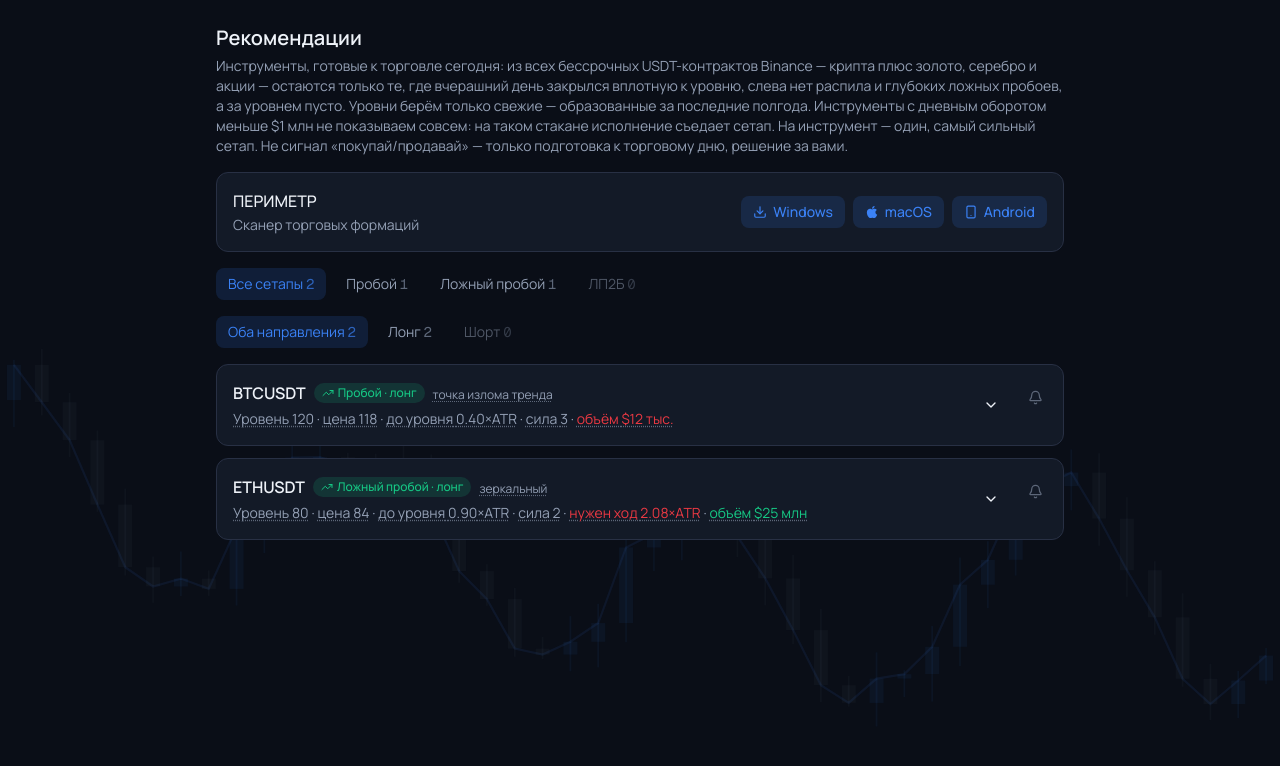
it: ATR panel › shows the ATR but no move budget for a breakout setup
expect the text "Пробой · лонг" is shown: met, box x1=314 y1=383 x2=425 y2=403
Click the text "BTCUSDT". click: (269, 393)
box: x1=233 y1=381 x2=306 y2=405
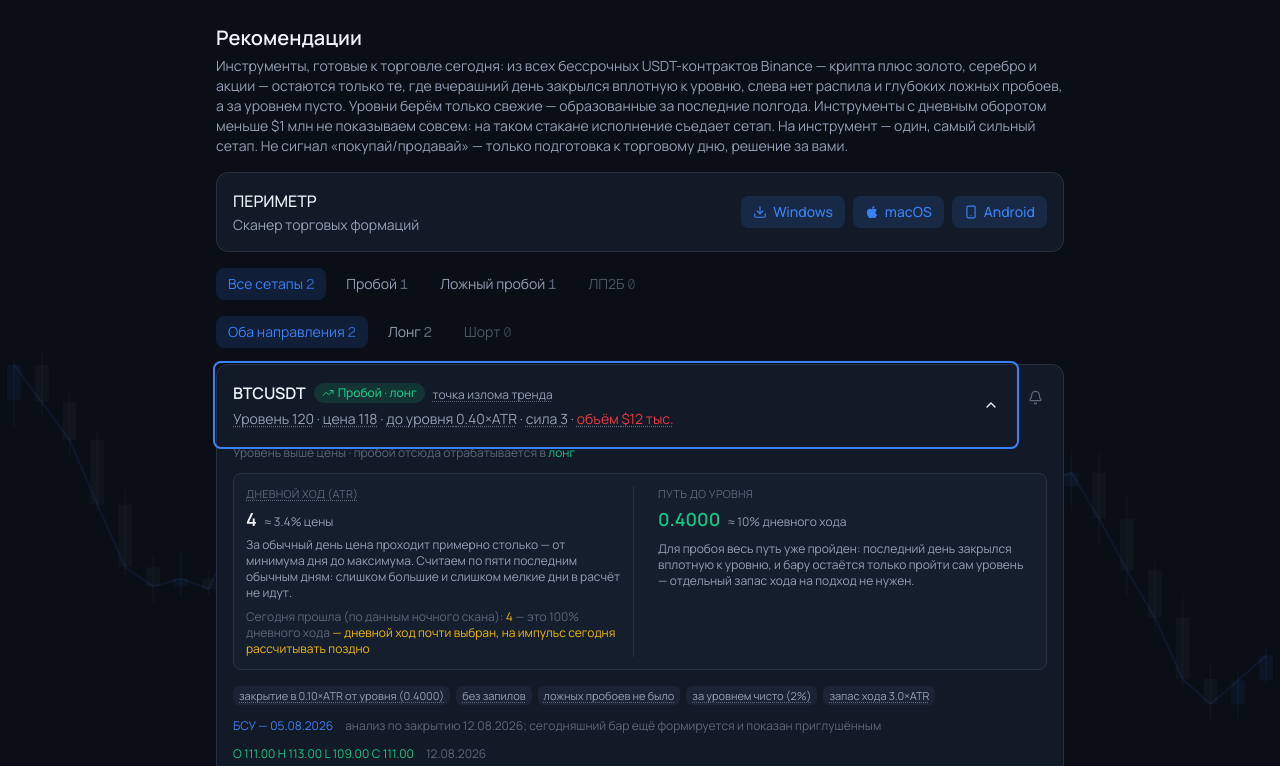
expect the text "Дневной ход (ATR)" is shown: met, box x1=246 y1=486 x2=358 y2=501
expect the text "Путь до уровня" is shown: met, box x1=658 y1=486 x2=753 y2=501
expect the text "Для пробоя весь путь уже пройден" is shown: met, box x1=658 y1=540 x2=1023 y2=588
